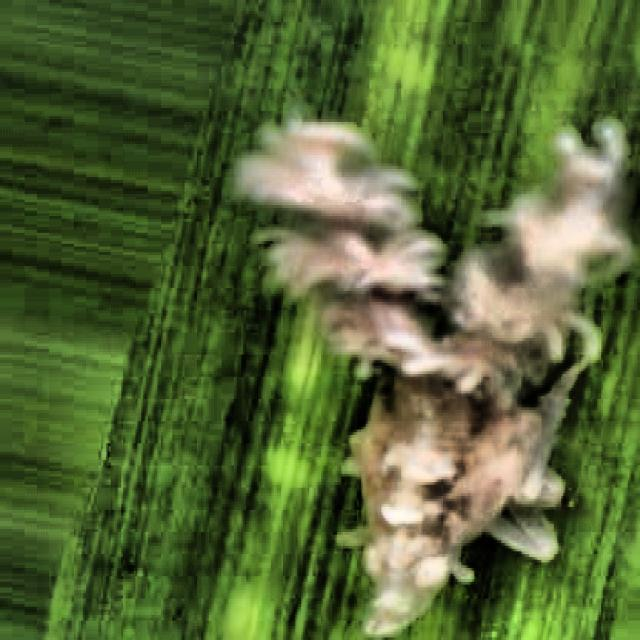Pyrilla-perpusilla: (212, 51, 640, 640)
